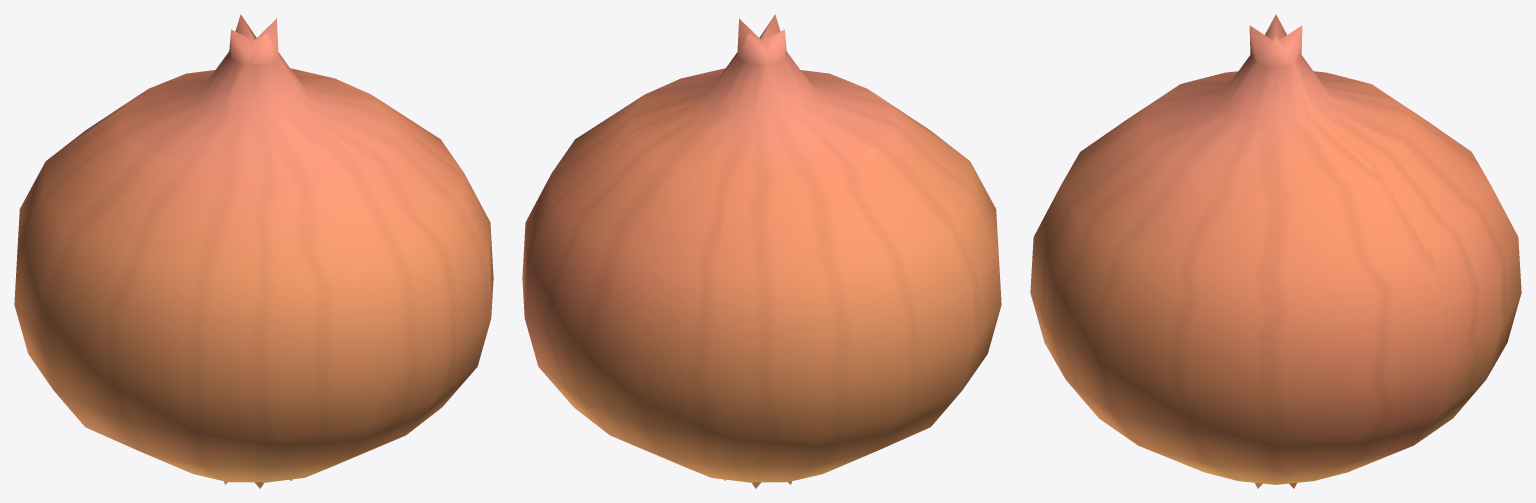
File: Cipolla.fbx
3 views of the same model, side by side, from view 1: azimuth 30°, elevation 25°; view 2: azimuth 150°, elevation 25°; view 3: azimuth 270°, elevation 25° (orthographic).
Parts seen in each view (by area): view 1: Sphere; view 2: Sphere; view 3: Sphere.
Boxes of the visible parts, <box> form: Sphere: <box>14,14,493,488</box>; Sphere: <box>522,14,1001,488</box>; Sphere: <box>1030,14,1521,488</box>.
Size of the model in its own units: 10 by 10 by 10.
